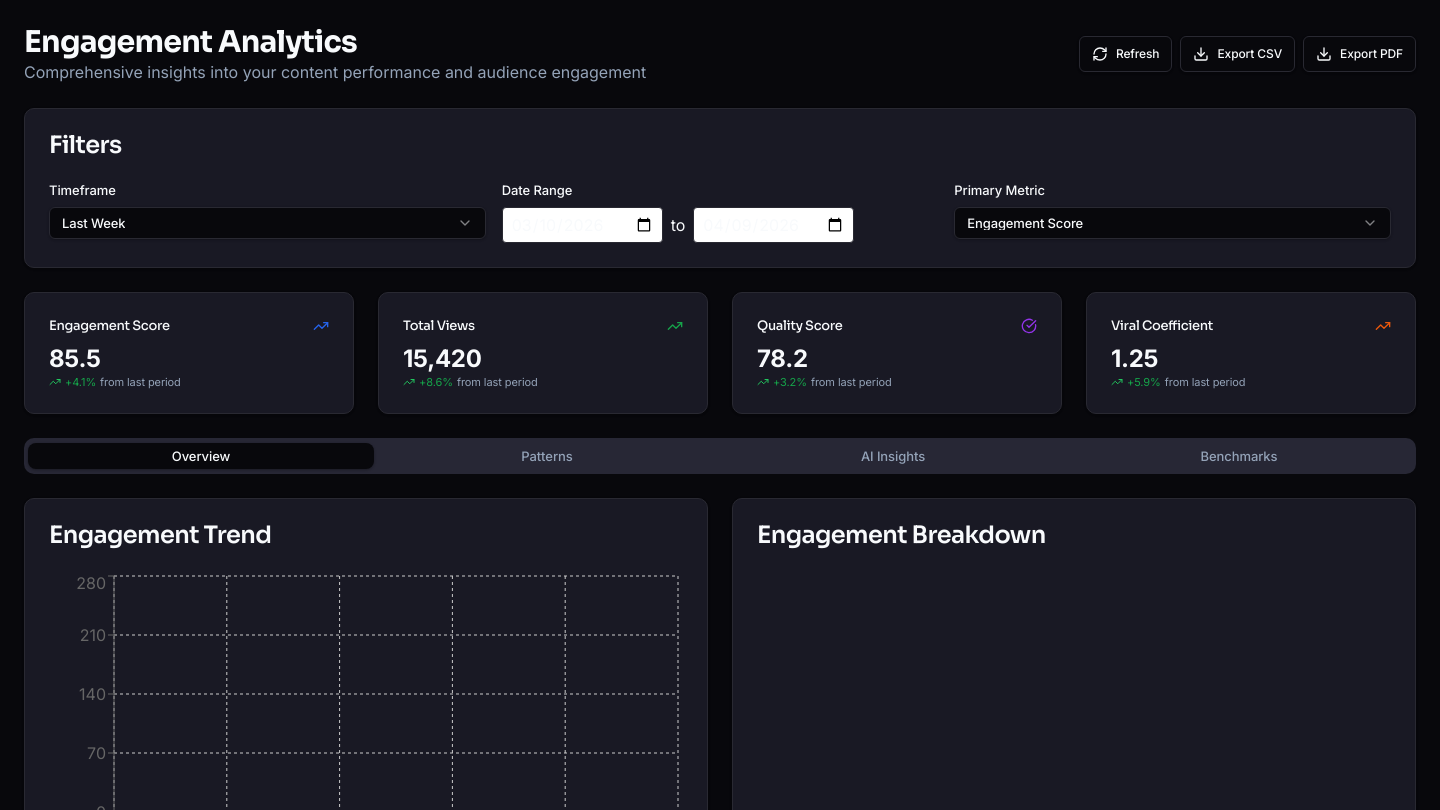
Test: EngagementAnalyticsDashboard › User Interactions › should handle filter changes correctly
This screenshot has width=1440, height=810.
Expected: the text "Timeframe" is shown, [49,182,116,198]
Note: Open the first select (Timeframe) using fireEvent
Click the dropdown labelled "Last Week" at (94, 223), box [49,207,486,239]
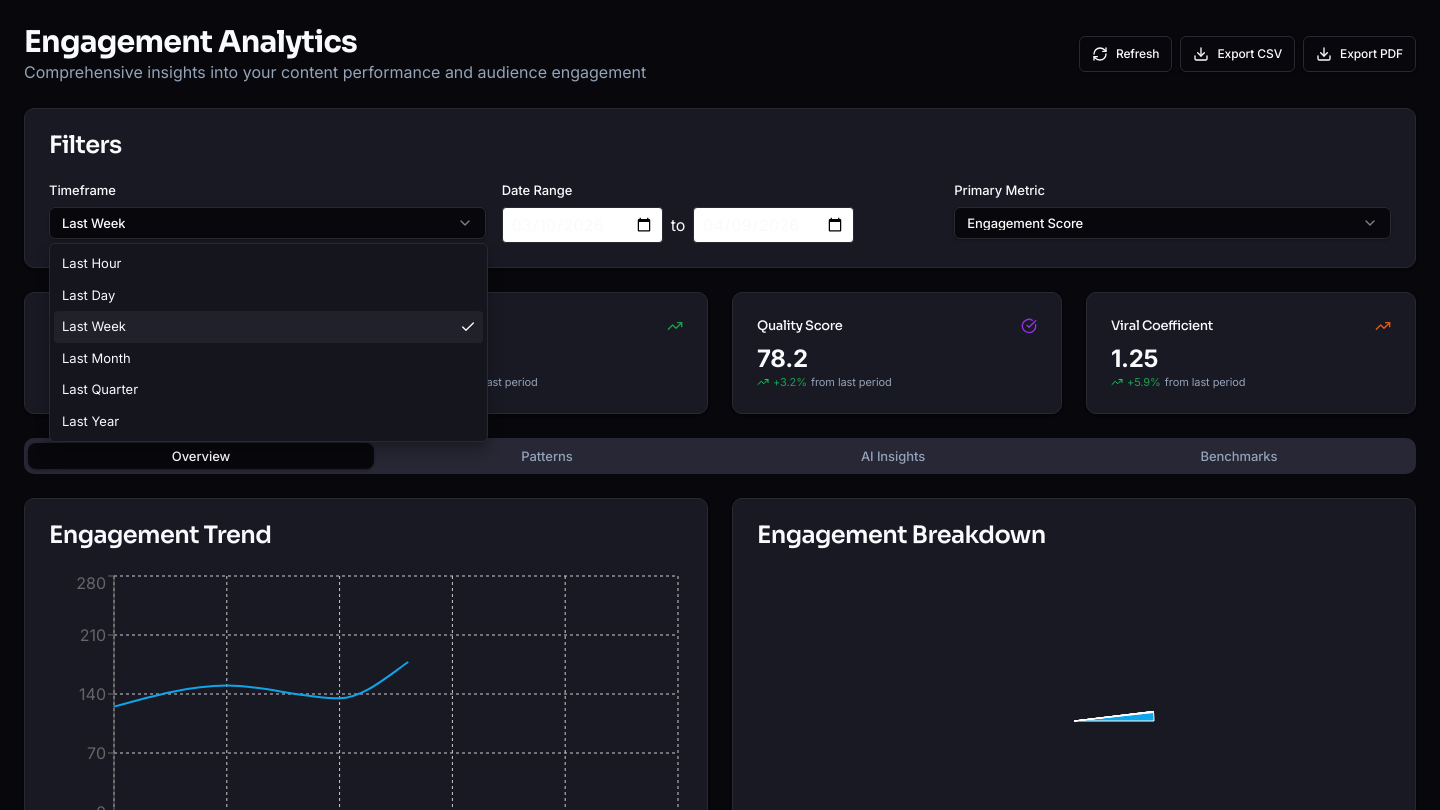
Expected: the text "Last Day" is shown, [62,286,115,305]
